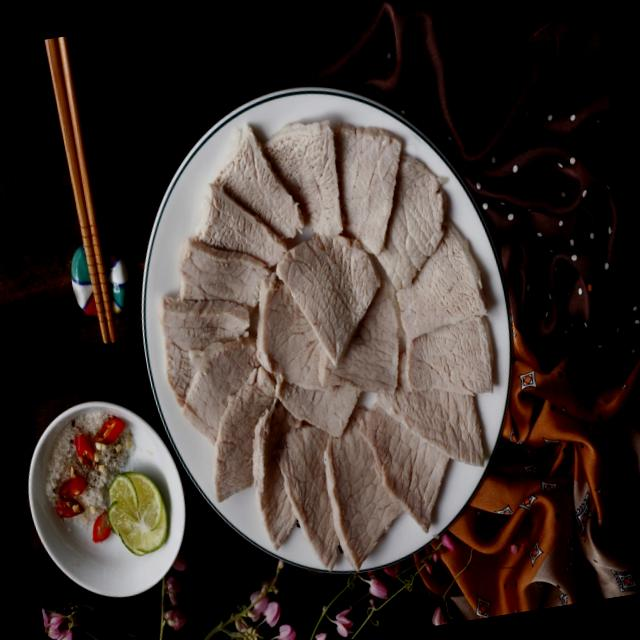ot: (57, 470, 87, 518), (96, 416, 125, 445), (75, 436, 99, 468), (94, 511, 112, 543)
thit luoc: (261, 123, 493, 466), (169, 337, 451, 569), (160, 127, 305, 394), (258, 235, 399, 436)
